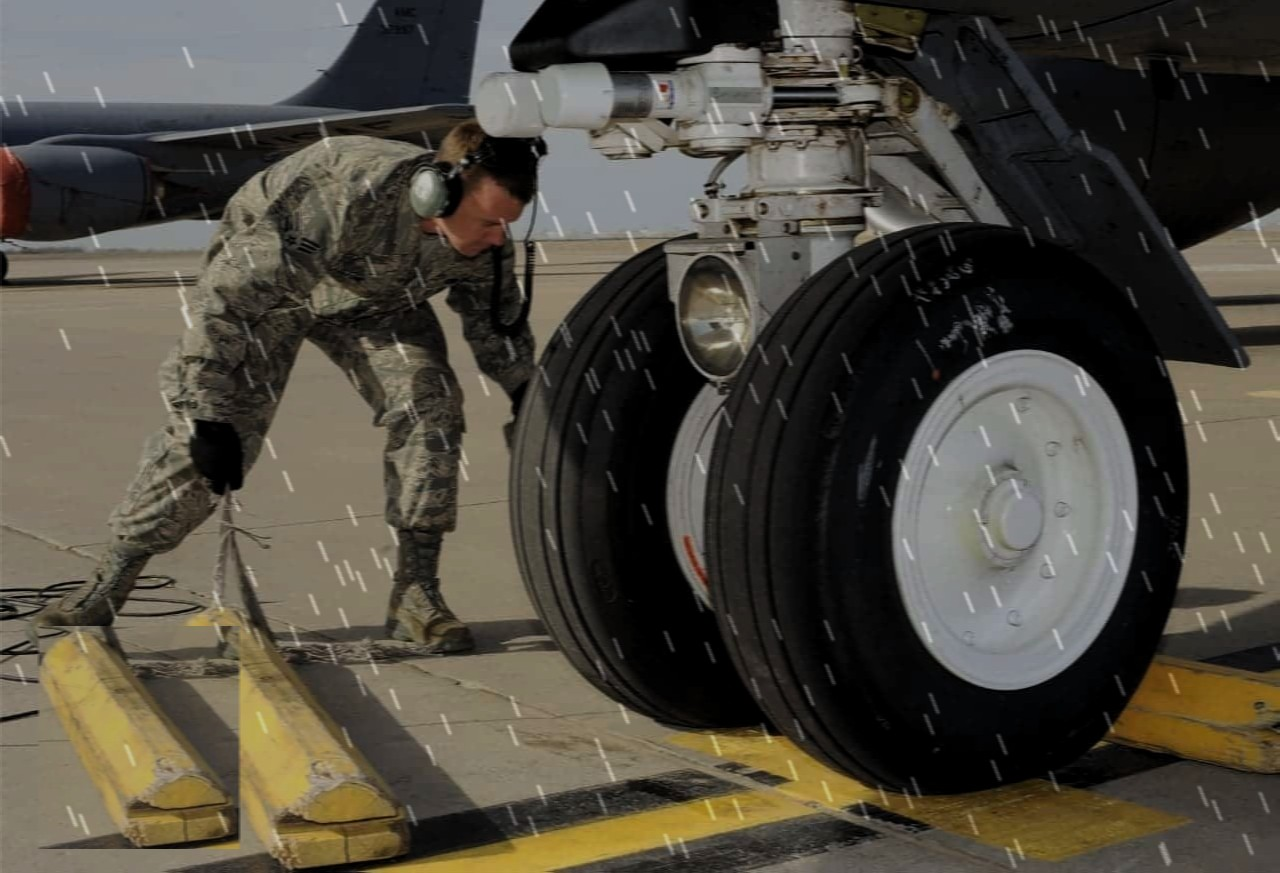chock: (168, 601, 413, 873), (39, 627, 240, 850)
wheel: (703, 223, 1181, 788), (512, 233, 785, 730)
